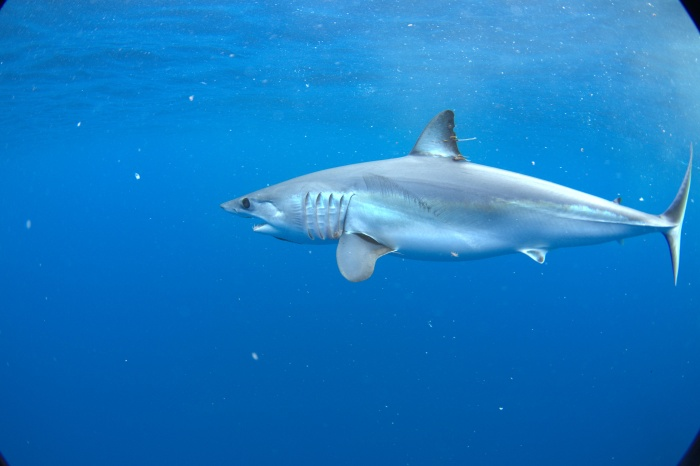Mako: (208, 96, 697, 319)
